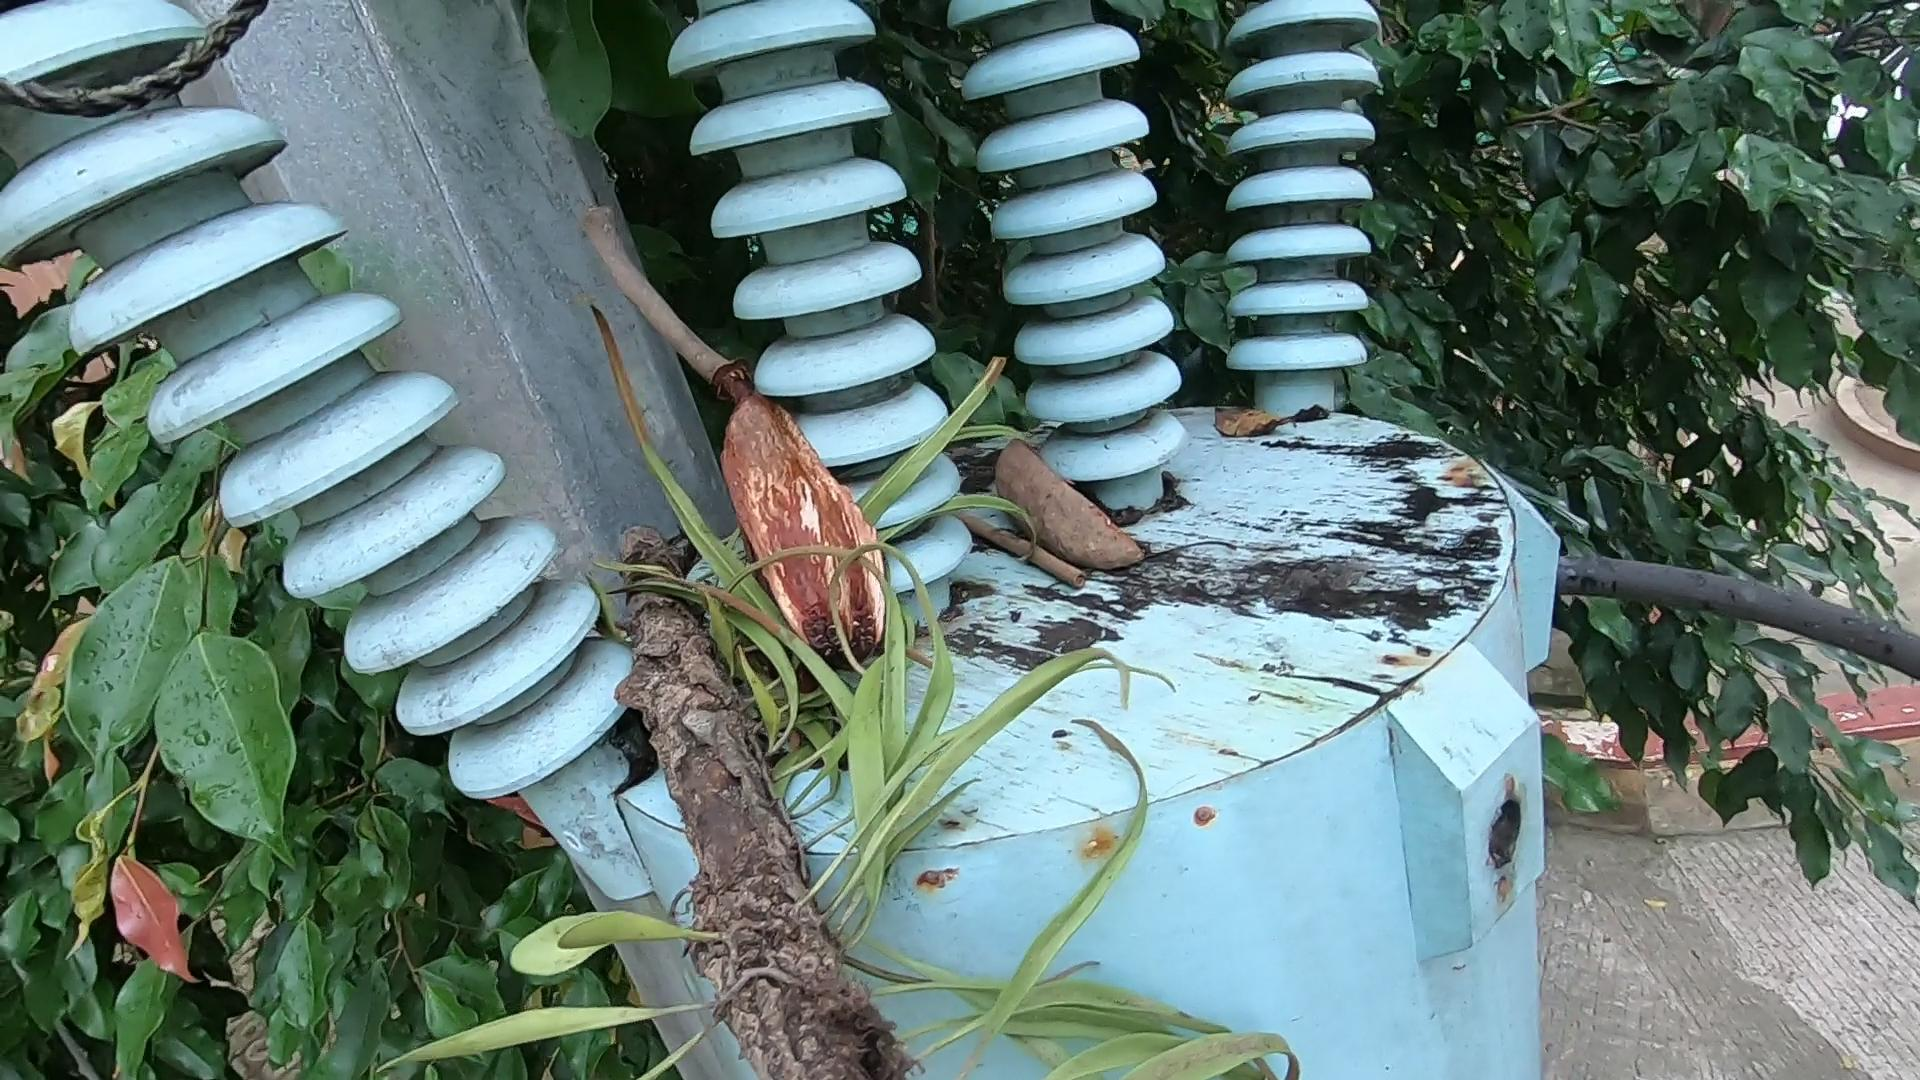branch with leaves: (593, 505, 1323, 1080)
leaf: (1216, 382, 1333, 451)
mahogany fruit: (694, 371, 916, 630), (997, 405, 1158, 576)
tree branch: (576, 189, 733, 378), (953, 495, 1089, 593)
